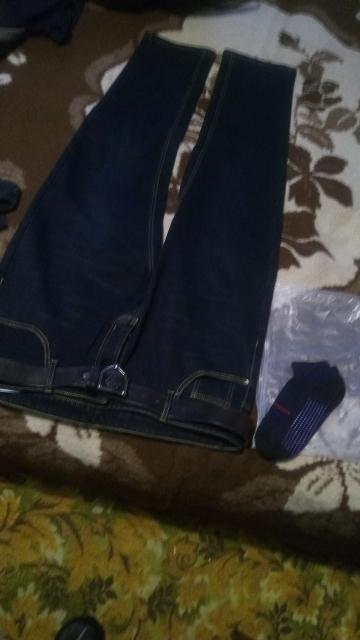jeans: (17, 34, 285, 467)
